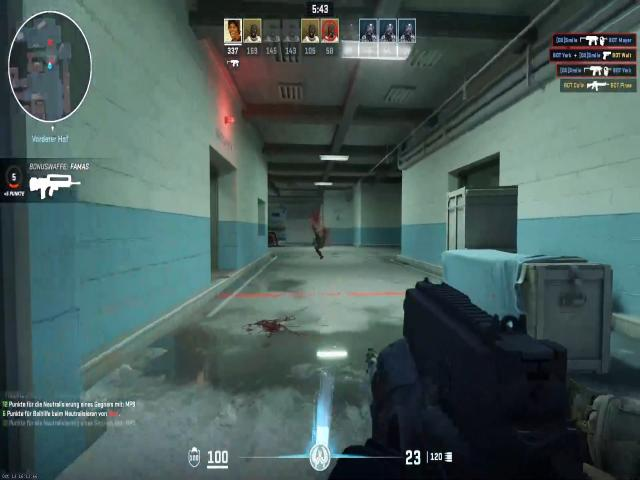Dead: (310, 222, 332, 261)
